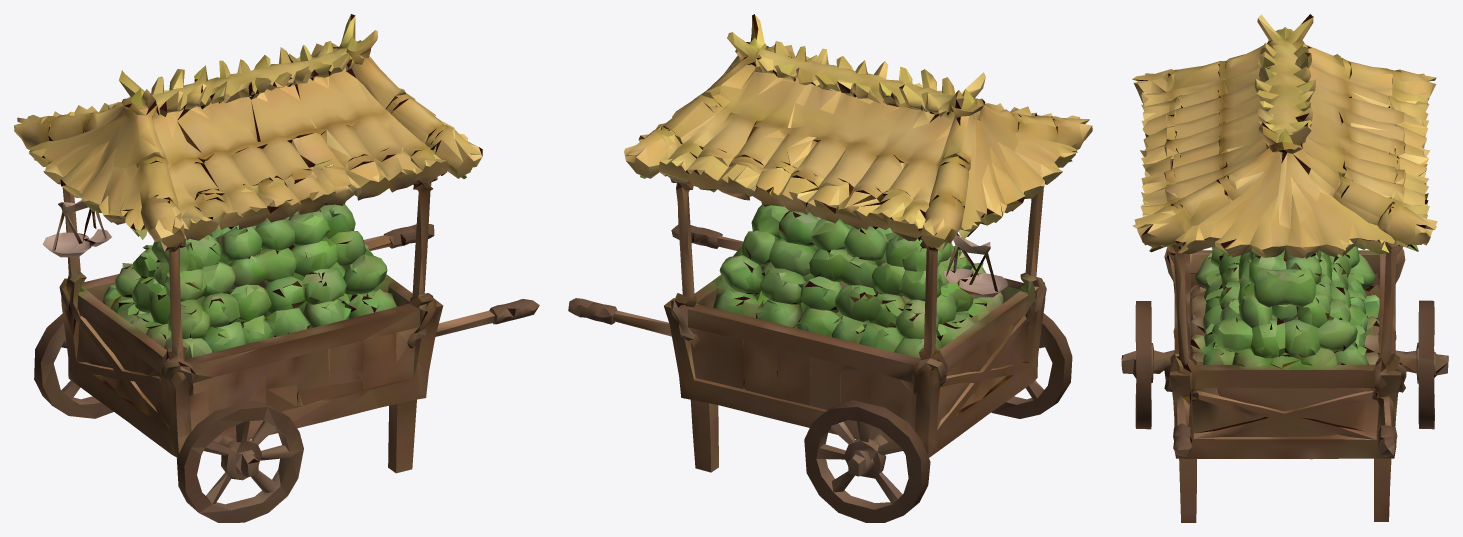
File: VegCart.glb
3 views of the same model, side by side, from view 1: azimuth 30°, elevation 25°; view 2: azimuth 150°, elevation 25°; view 3: azimuth 270°, elevation 25° (orthographic).
Parts seen in each view (by area): view 1: VegCart; view 2: VegCart; view 3: VegCart.
Part boxes in pixels (box(x1,y1,x2,y2)): VegCart: box(14, 14, 539, 522); VegCart: box(568, 14, 1092, 522); VegCart: box(1121, 14, 1448, 522).
Size of the model in its own units: 2.64 by 2.49 by 1.83.
Materials: 1 (1 with a texture image).
